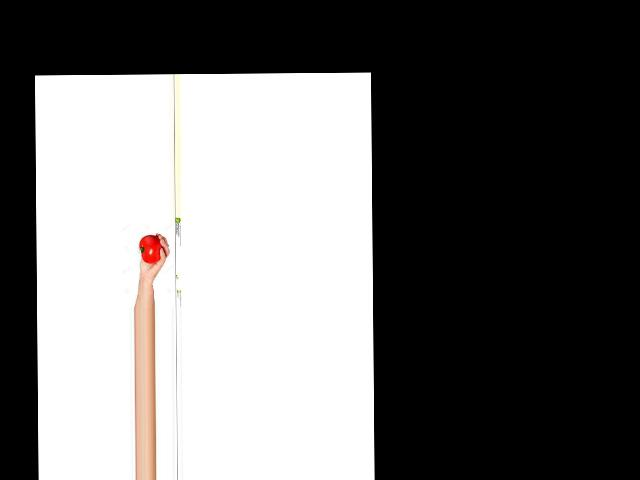tomato: (139, 235, 163, 264)
